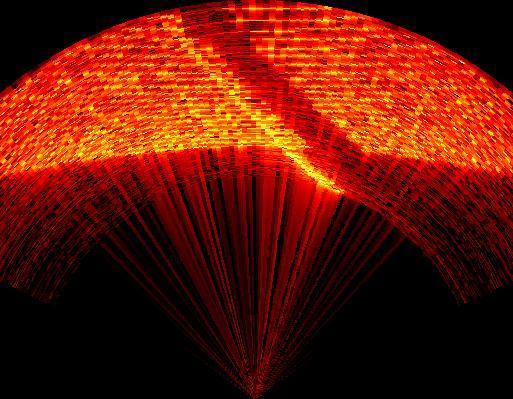pipe: (165, 7, 370, 200)
